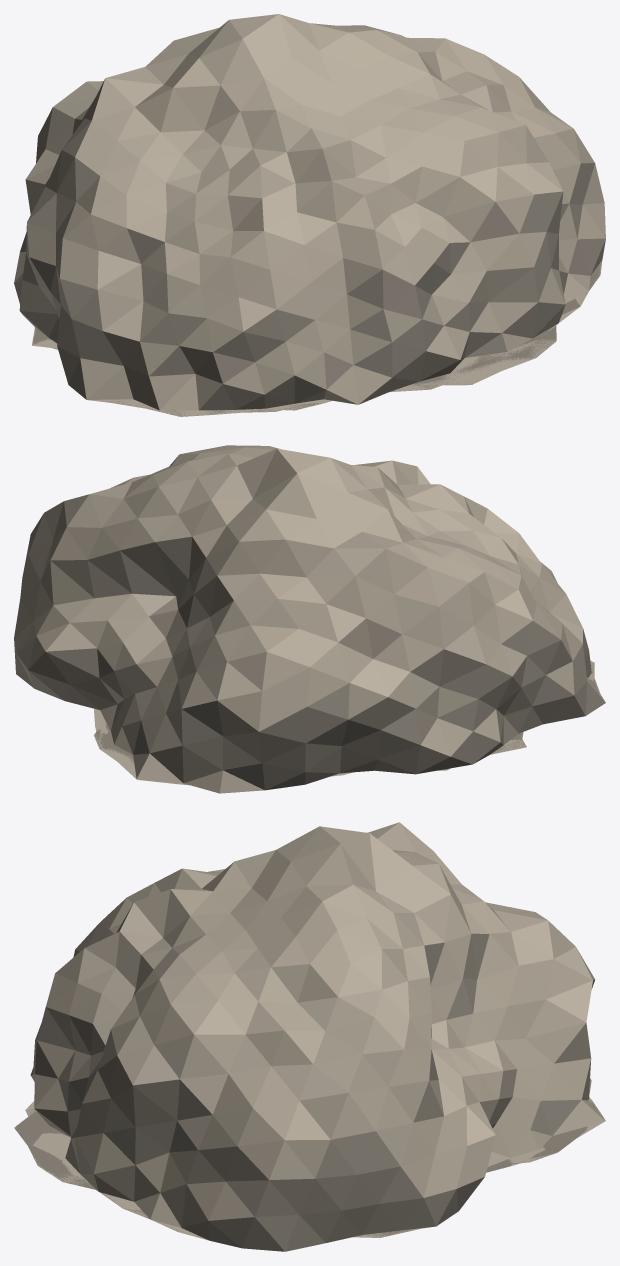
Rendered from TERRAIN_02.obj.
3 views of the same model, one above another, from view 1: azimuth 30°, elevation 25°; view 2: azimuth 150°, elevation 25°; view 3: azimuth 270°, elevation 25° (orthographic). The views are drawn at different scales.
Visible parts, largest first — view 1: TERRAIN_02; view 2: TERRAIN_02; view 3: TERRAIN_02.
Boxes of the visible parts, x1=… form: TERRAIN_02: x1=14, y1=14, x2=605, y2=416; TERRAIN_02: x1=14, y1=445, x2=605, y2=793; TERRAIN_02: x1=14, y1=822, x2=605, y2=1251.
Bounding box in the file's own units: 6.37 × 2.88 × 5.76.
